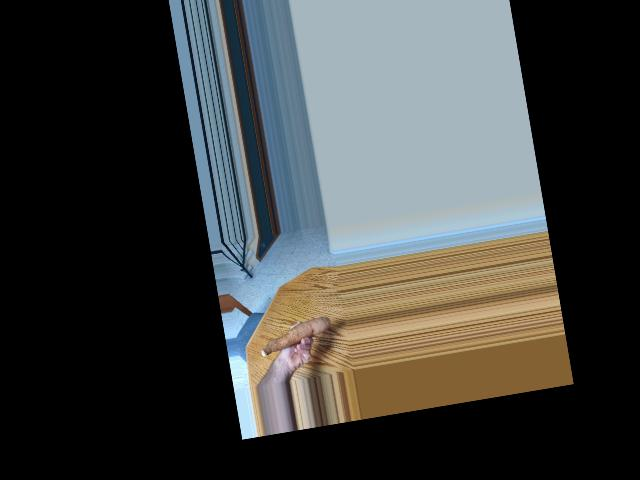sweet_potato: (257, 312, 332, 363)
